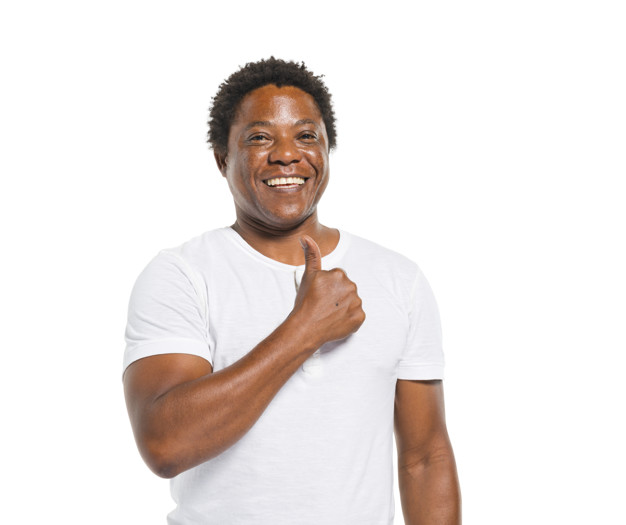thumbsup: (298, 234, 366, 331)
